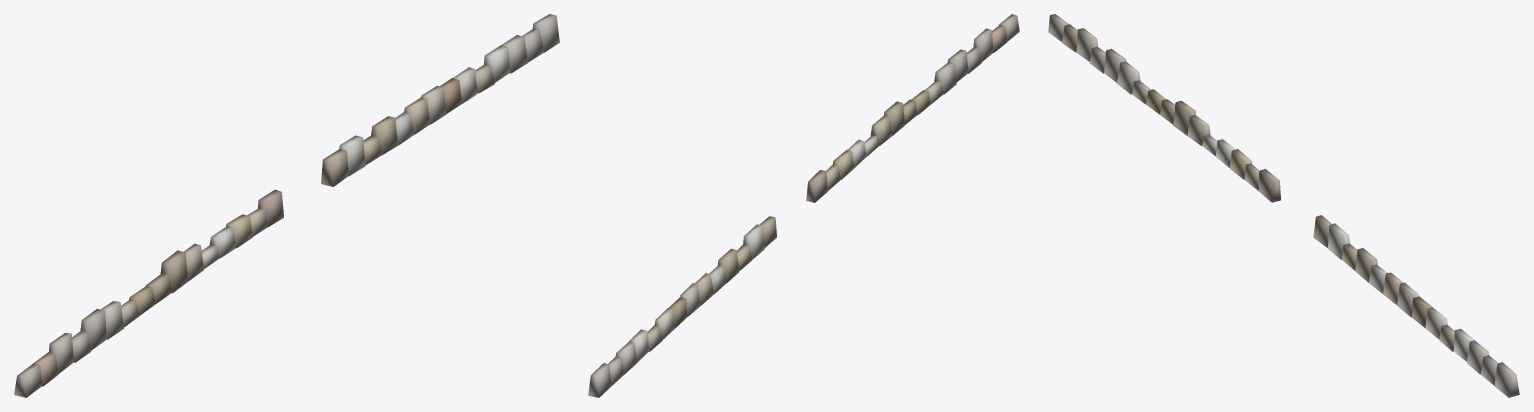
Rendered from farm_-10_-7_far.glb.
3 renders of one model, left to right at view 1: azimuth 30°, elevation 25°; view 2: azimuth 210°, elevation 25°; view 3: azimuth 270°, elevation 25°, orthographic. The views are drawn at different scales.
Visible parts, largest first — view 1: geometry_0; view 2: geometry_0; view 3: geometry_0.
Boxes of the visible parts, bbox=[...] form: geometry_0: bbox=[14, 14, 559, 397]; geometry_0: bbox=[588, 14, 1019, 397]; geometry_0: bbox=[1048, 14, 1519, 397].
Size of the model in its own units: 44.49 by 4.17 by 27.28.
